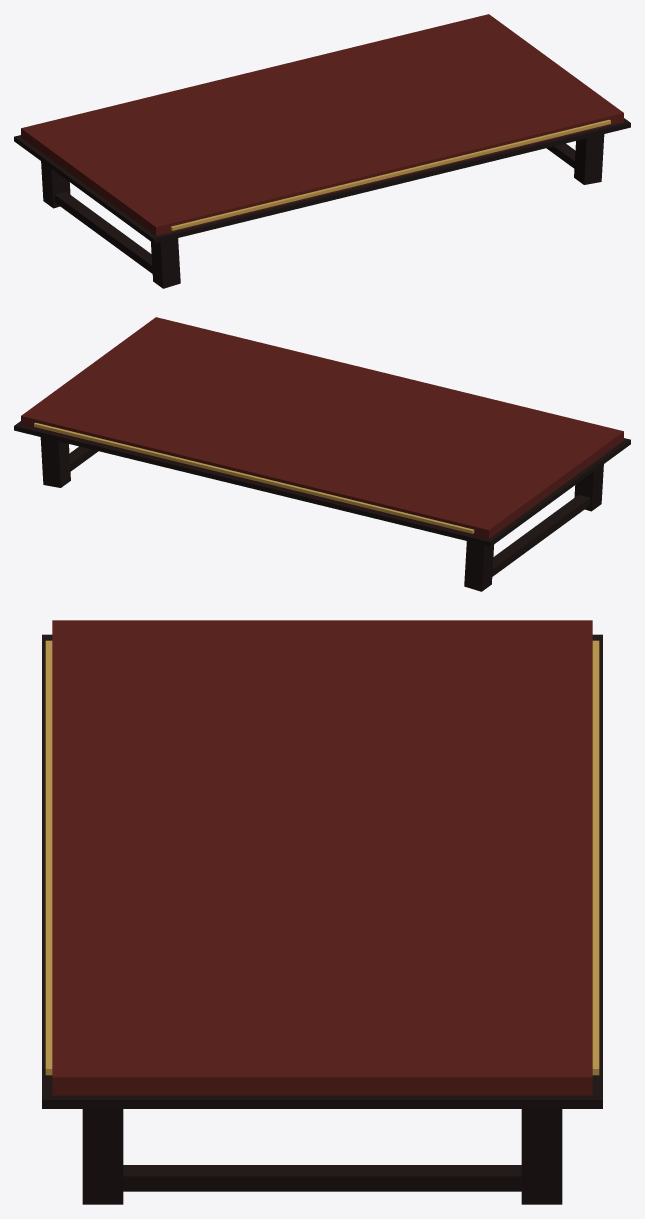
Rendered from poem_table.glb.
The picture shows the model from 3 angles, top to bottom: view 1: azimuth 30°, elevation 25°; view 2: azimuth 150°, elevation 25°; view 3: azimuth 270°, elevation 25°; orthographic projection. The views are drawn at different scales.
Visible parts, largest first — view 1: table; view 2: table; view 3: table.
Part boxes in pixels (<box>): table: <box>14,14,630,288</box>; table: <box>14,317,630,591</box>; table: <box>42,620,602,1204</box>.
Size of the model in its own units: 3.26 by 0.4633 by 1.66.
